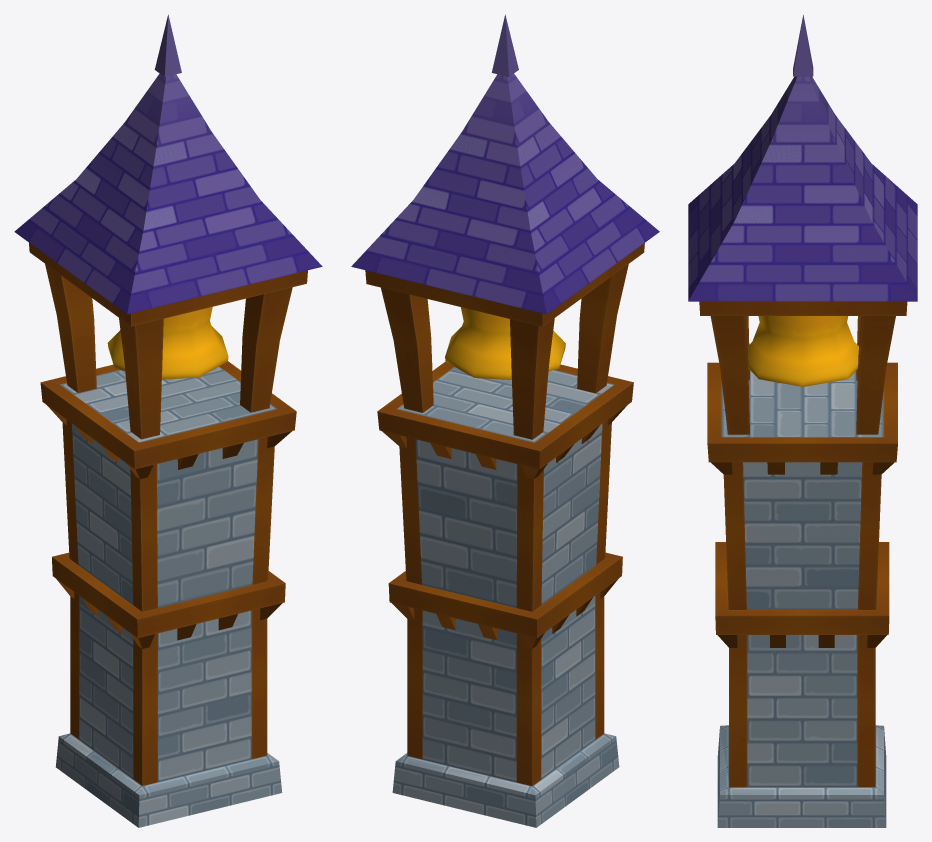
The model's file is HOS0110025.fbx.
3 renders of one model, left to right at view 1: azimuth 30°, elevation 25°; view 2: azimuth 150°, elevation 25°; view 3: azimuth 270°, elevation 25°, orthographic.
Parts seen in each view (by area): view 1: smHOS0110025; view 2: smHOS0110025; view 3: smHOS0110025.
Part boxes in pixels (bbox=[...]): smHOS0110025: bbox=[14, 14, 322, 827]; smHOS0110025: bbox=[351, 14, 659, 827]; smHOS0110025: bbox=[688, 15, 917, 827].
Size of the model in its own units: 244 by 913 by 244.
Materials: 1 (1 with a texture image).
